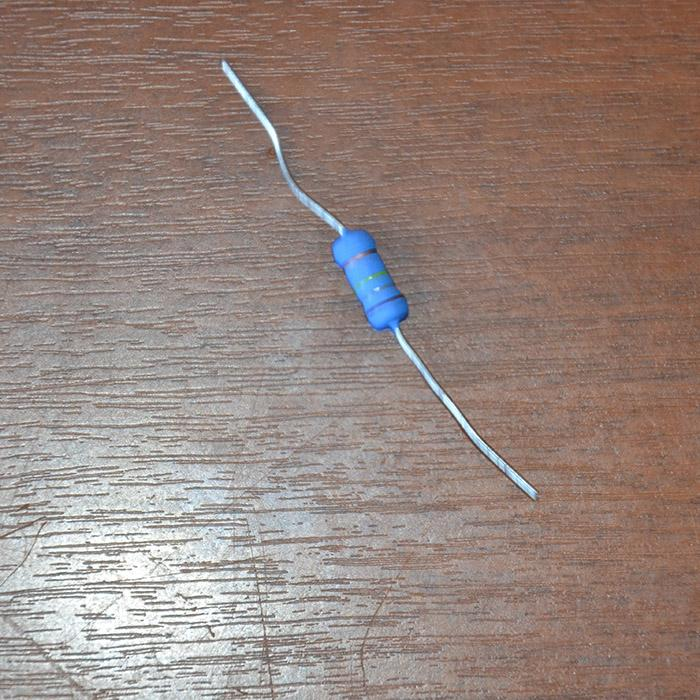resistor: (330, 227, 407, 331)
